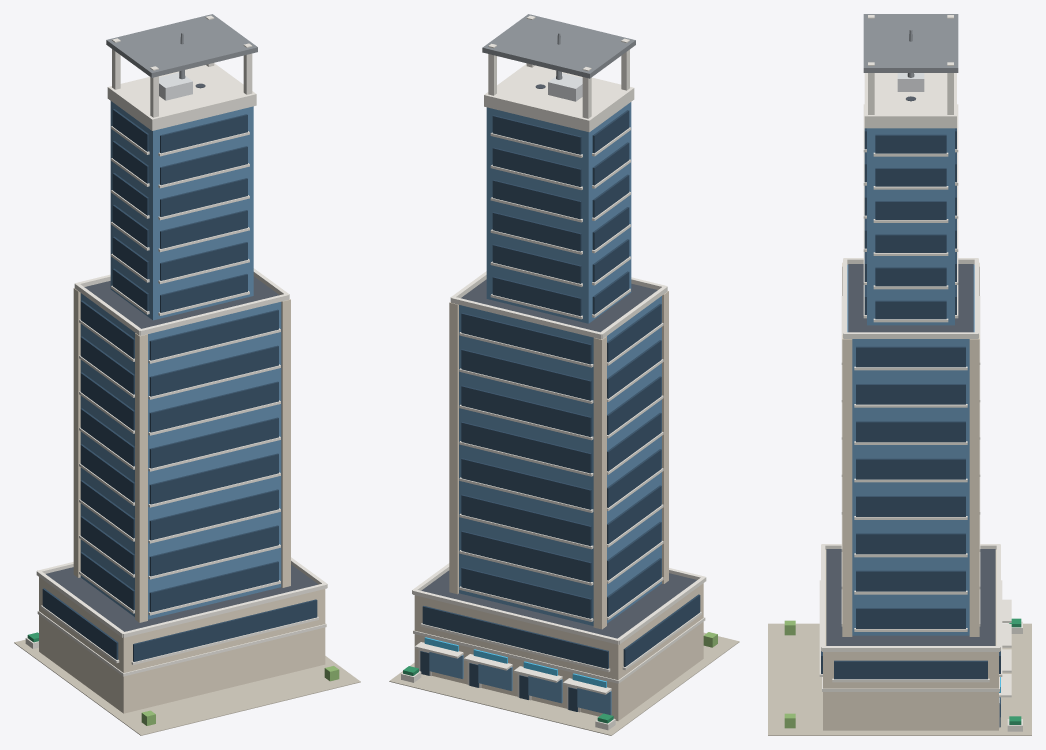
The picture shows the model from 3 angles, left to right: view 1: azimuth 30°, elevation 25°; view 2: azimuth 150°, elevation 25°; view 3: azimuth 270°, elevation 25°; orthographic projection. The views are drawn at different scales.
Parts seen in each view (by area): view 1: window_band (×30), stage1, podium, stage2, pier (×3), ground, crown_ring, roof (×2), crown_band, parapet (×4), string_course, plant_room (+1 smaller); view 2: window_band (×30), stage1, stage2, podium, pier (×3), crown_ring, roof (×2), ground, crown_band, parapet (×4), storefront (×4), string_course (+2 smaller); view 3: window_band (×15), stage1, podium, ground, stage2, roof (×2), pier (×2), crown_ring, crown_band, parapet (×5), sill (×6), string_course (+1 smaller).
Boxes of the visible parts, box(x1,y1,x2,y2) form: window_band (×30): box(42, 109, 317, 661); stage1: box(80, 293, 281, 619); podium: box(39, 577, 325, 713); stage2: box(110, 101, 253, 320); pier (×3): box(73, 288, 290, 622); ground: box(14, 639, 360, 735); crown_ring: box(106, 14, 257, 77); roof (×2): box(46, 276, 318, 631); crown_band: box(107, 63, 256, 130); parapet (×4): box(36, 283, 327, 637); string_course: box(37, 611, 326, 676); plant_room: box(159, 72, 192, 100); window_band (×30): box(422, 110, 700, 668); stage1: box(459, 296, 661, 625); stage2: box(486, 102, 631, 323); podium: box(414, 583, 703, 720); pier (×3): box(449, 291, 668, 629); crown_ring: box(482, 14, 635, 78); roof (×2): box(421, 279, 696, 638); ground: box(389, 632, 739, 735); crown_band: box(484, 64, 634, 132); parapet (×4): box(412, 286, 706, 644); storefront (×4): box(429, 652, 611, 715); string_course: box(413, 617, 705, 683); window_band (×15): box(834, 134, 987, 679); stage1: box(847, 264, 974, 635); podium: box(823, 549, 998, 730); ground: box(768, 623, 1031, 735); stage2: box(867, 128, 954, 325); roof (×2): box(826, 264, 995, 645); pier (×2): box(842, 335, 979, 636); crown_ring: box(863, 14, 958, 72); crown_band: box(864, 73, 956, 128); parapet (×5): box(821, 123, 1000, 651); sill (×6): box(832, 366, 989, 682); string_course: box(822, 677, 999, 691).
Bounding box in the file's own units: 24 × 65.27 × 24.
